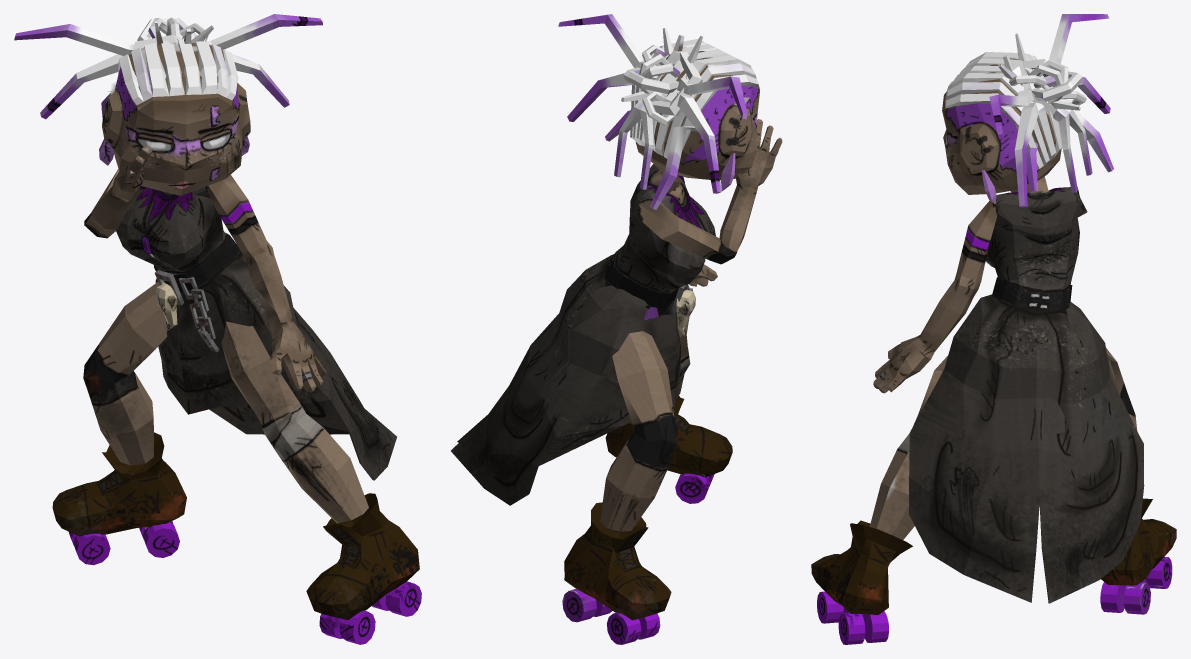
The model's file is bruja_000010.obj.
3 renders of one model, left to right at view 1: azimuth 30°, elevation 25°; view 2: azimuth 150°, elevation 25°; view 3: azimuth 270°, elevation 25°, orthographic. The views are drawn at different scales.
Parts seen in each view (by area): view 1: Bruja_Plane.001; view 2: Bruja_Plane.001; view 3: Bruja_Plane.001.
Part boxes in pixels (x1,y1,x2,y2): Bruja_Plane.001: (14, 14, 421, 644); Bruja_Plane.001: (451, 14, 782, 644); Bruja_Plane.001: (811, 14, 1176, 644).
Bounding box in the file's own units: 9.5 × 15.46 × 9.25.
